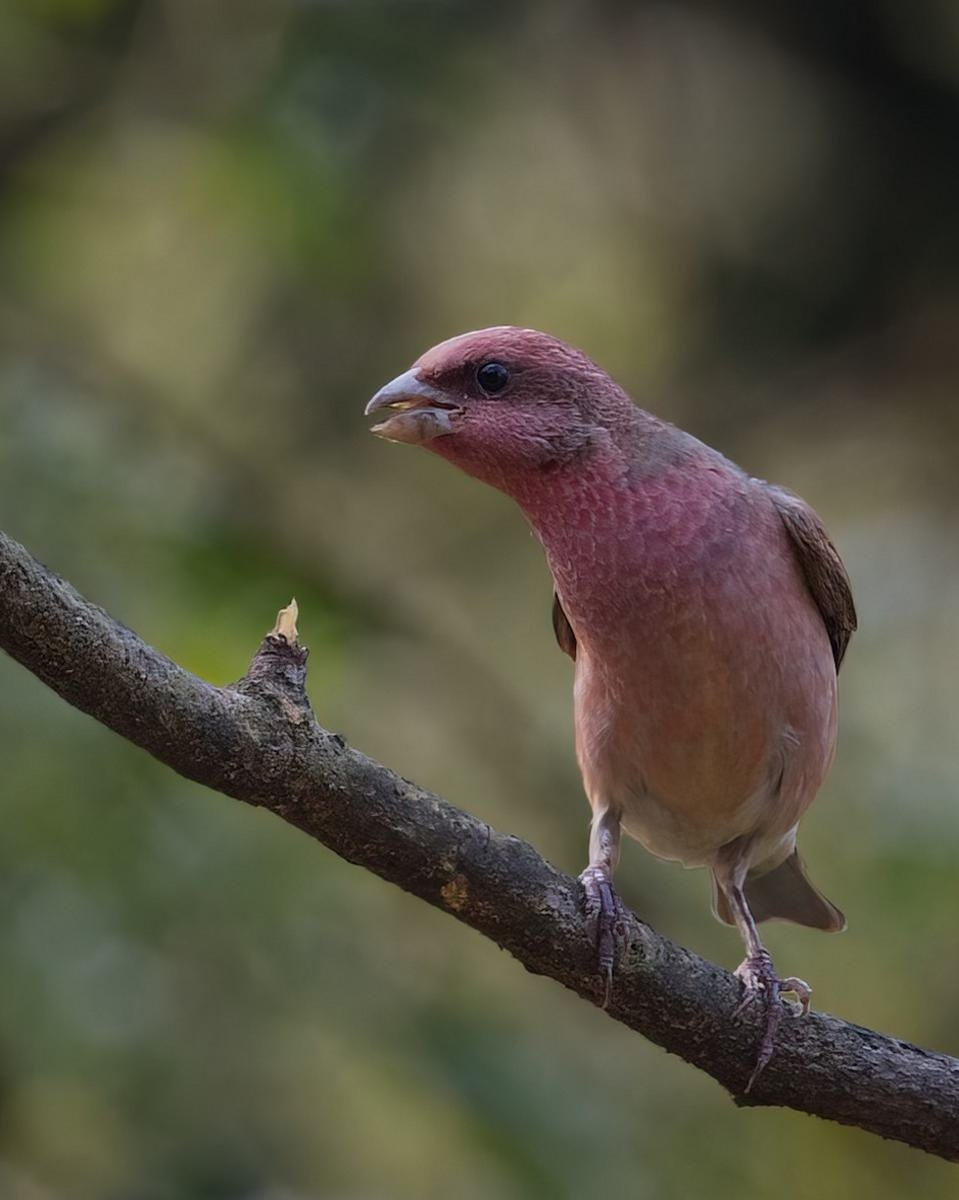rosefinch: (355, 305, 877, 964)
